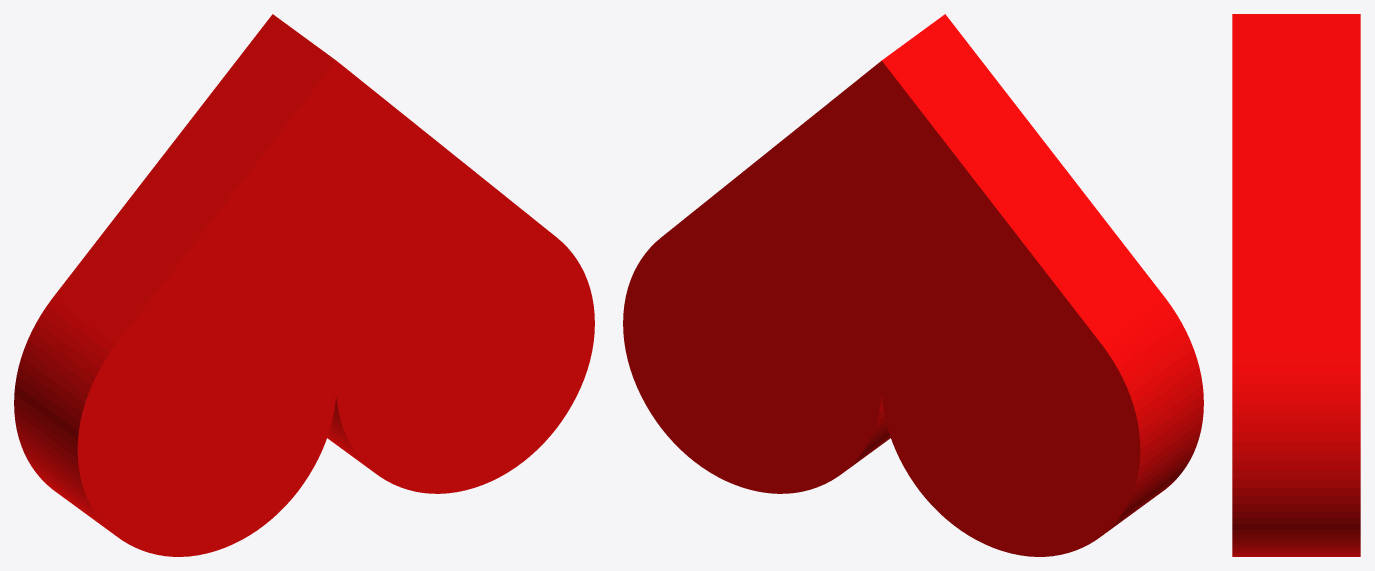
The model's file is heart.glb.
3 views of the same model, side by side, from view 1: azimuth 30°, elevation 25°; view 2: azimuth 150°, elevation 25°; view 3: azimuth 270°, elevation 25° (orthographic).
Parts seen in each view (by area): view 1: Curve; view 2: Curve; view 3: Curve.
Boxes of the visible parts, left/top/right/bottom form: Curve: left=14, top=14, right=594, bottom=556; Curve: left=623, top=14, right=1203, bottom=556; Curve: left=1232, top=14, right=1360, bottom=556.
Size of the model in its own units: 1.13 by 0.9664 by 0.2414.
